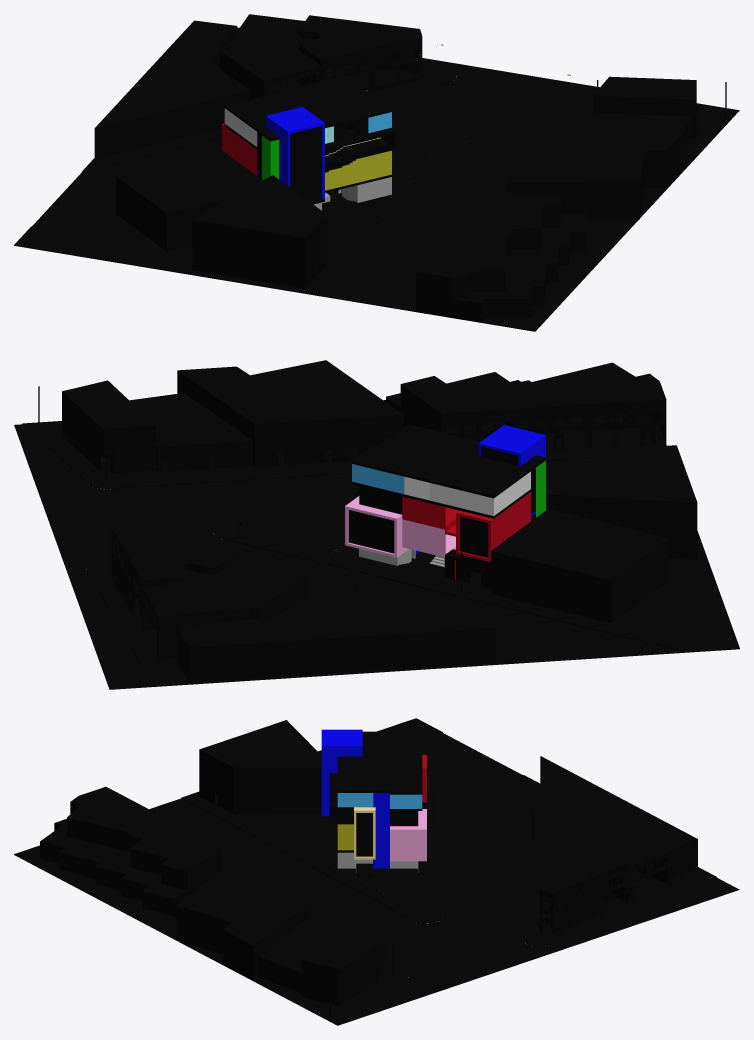
The picture shows the model from 3 angles, top to bottom: view 1: azimuth 30°, elevation 25°; view 2: azimuth 150°, elevation 25°; view 3: azimuth 270°, elevation 25°; orthographic projection. The views are drawn at different scales.
Parts seen in each view (by area): view 1: Untitled.001; view 2: Untitled.001; view 3: Untitled.001.
Part boxes in pixels (left/top/right/bottom): Untitled.001: left=14, top=14, right=739, bottom=331; Untitled.001: left=14, top=360, right=739, bottom=689; Untitled.001: left=14, top=718, right=739, bottom=1025.
Bounding box in the file's own units: 210 × 29.71 × 210.
